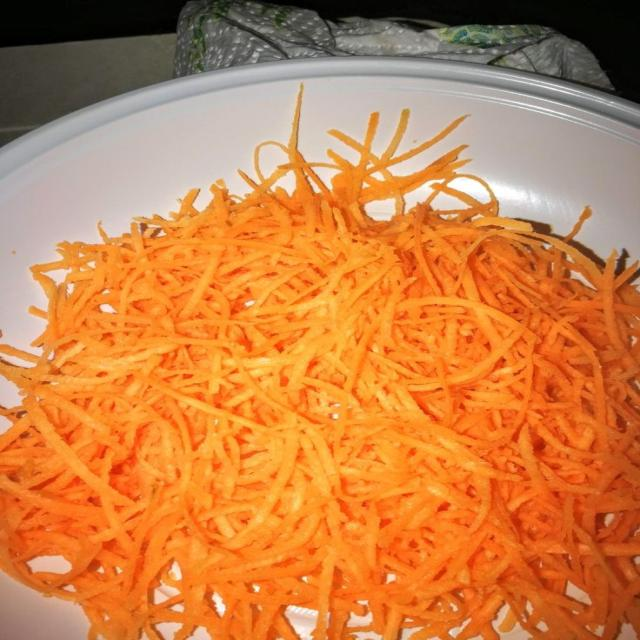carrot: (0, 115, 639, 638)
